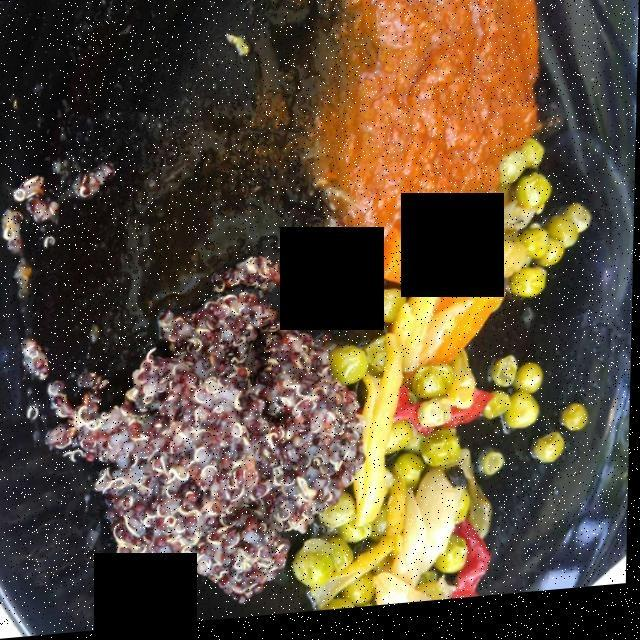mixed-vegetables: (290, 167, 589, 592)
quinoa: (24, 269, 366, 601)
tomato-sauce: (328, 0, 545, 285)
